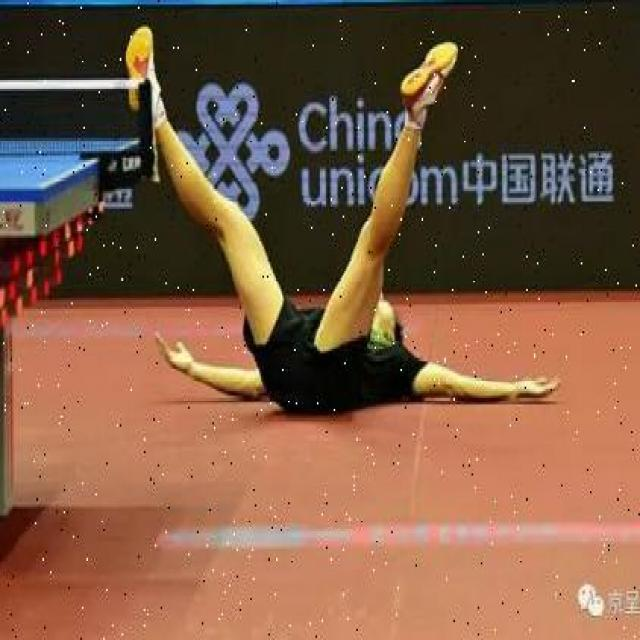fall: (168, 136, 543, 404)
